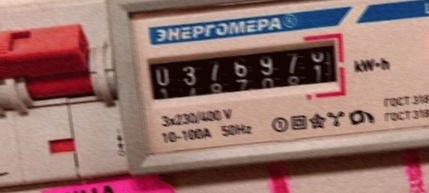0: (151, 62, 167, 86)
1: (309, 61, 322, 82)
3: (179, 63, 195, 85)
6: (229, 52, 247, 77)
7: (203, 57, 221, 82), (281, 49, 299, 74)
9: (255, 51, 272, 75)
screen: (134, 20, 351, 121)
